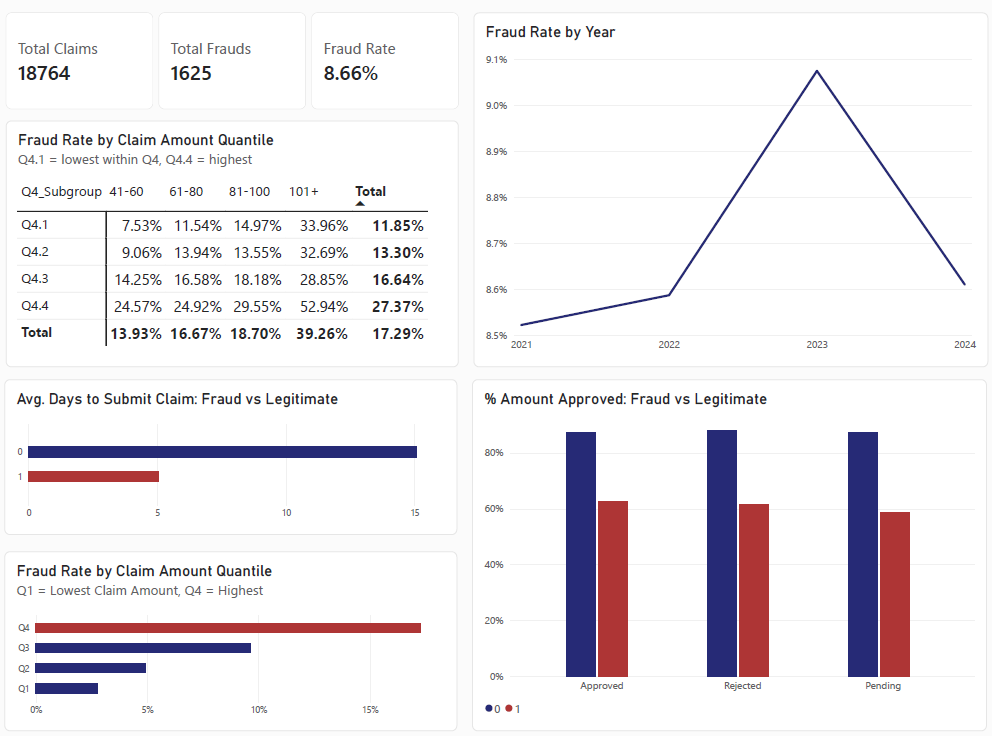

What the dashboard file says about the page in this screenshot:
{"tool":"powerbi","page":{"name":"Overview","canvas":[1920,1080],"ordinal":0},"visuals":[{"type":"cardVisual","fields":{"Data":["healthcare_fraud_detection.Total_Claims","healthcare_fraud_detection.Total_Frauds","healthcare_fraud_detection.Fraud_Rate"]},"box":[356.5,39.8,637,135.7],"z":0},{"type":"pivotTable","title":"Fraud Rate by Claim Amount Quantile","fields":{"Columns":["Claims.Claims_Monthly_Bin"],"Rows":["Claims.Q4_Subgroup"],"Values":["Claims.Fraud_Rate"]},"box":[356.5,191.8,637,347.5],"z":1000},{"type":"barChart","title":"Fraud Rate by Claim Amount Quantile","fields":{"Category":["Claims.Quantil_by_Claim"],"Y":["Claims.Fraud_Rate"]},"box":[354.7,798.1,637,253.4],"z":2000},{"type":"barChart","title":"Avg. Days to Submit Claim: Fraud vs Legitimate","fields":{"Category":["Claims.Is_Fraud"],"Y":["Avg(Claims.Days_Between_Service_and_Claim)"]},"box":[354.7,555.6,637,219],"z":3000},{"type":"lineChart","title":"Fraud Rate by Year","fields":{"Category":["Date.Year"],"Y":["Claims.Fraud_Rate"]},"box":[1015.2,39.8,723.9,499.5],"z":4000},{"type":"clusteredColumnChart","title":"% Amount Approved: Fraud vs Legitimate","fields":{"Category":["Claims.Claim_Status"],"Series":["Claims.Is_Fraud"],"Y":["Avg(Claims.Differ)"]},"box":[1013.4,555.6,723.9,495.8],"z":5000},{"type":"pageNavigator","box":[0,0,335.5,49.4],"z":6000}]}

Visuals, with their boxes on the page's 1920x1080 design canvas (x1, y1, x2, y2). These are canvas units, not pixel positions in the 992x736 screenshot, which may show the page scaled, cropped or inside an application window:
cardVisual - healthcare_fraud_detection.Total_Claims x healthcare_fraud_detection.Total_Frauds: <bbox>356, 40, 994, 176</bbox>
"Fraud Rate by Claim Amount Quantile" pivotTable: <bbox>356, 192, 994, 539</bbox>
"Fraud Rate by Claim Amount Quantile" barChart: <bbox>355, 798, 992, 1052</bbox>
"Avg. Days to Submit Claim: Fraud vs Legitimate" barChart: <bbox>355, 556, 992, 775</bbox>
"Fraud Rate by Year" lineChart: <bbox>1015, 40, 1739, 539</bbox>
"% Amount Approved: Fraud vs Legitimate" clusteredColumnChart: <bbox>1013, 556, 1737, 1051</bbox>
pageNavigator: <bbox>0, 0, 336, 49</bbox>
